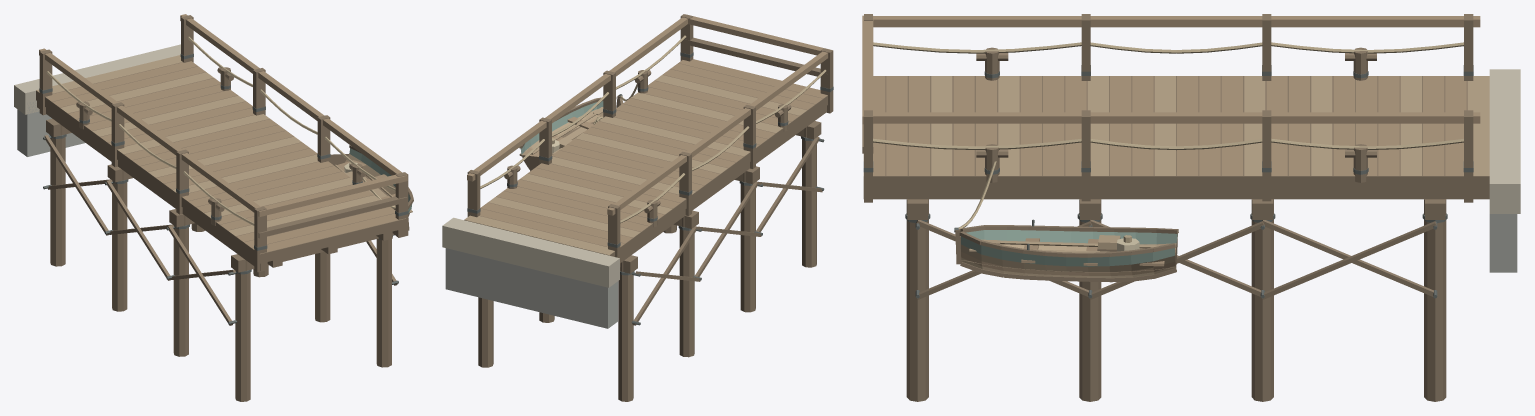
Rendered from holm_arrival_dock_overhaul_v4.glb.
3 views of the same model, side by side, from view 1: azimuth 30°, elevation 25°; view 2: azimuth 150°, elevation 25°; view 3: azimuth 270°, elevation 25° (orthographic). The views are drawn at different scales.
Parts seen in each view (by area): view 1: DockDeck, DockRails, DockPiles, DockStructure, DockLanding, DockRopes, DockBoatHull, DockIron, DockBollards; view 2: DockDeck, DockLanding, DockRails, DockPiles, DockStructure, DockBoatHull, DockRopes, DockBollards, DockIron, DockBoatFittings; view 3: DockDeck, DockRails, DockPiles, DockStructure, DockBoatHull, DockLanding, DockRopes, DockBollards, DockBoatFittings, DockIron.
Part boxes in pixels (x1,y1,x2,y2): DockDeck: (36,55,406,263); DockRails: (39,14,408,272); DockPiles: (50,125,391,401); DockStructure: (37,101,405,325); DockLanding: (14,44,180,156); DockRopes: (46,36,395,225); DockBoatHull: (330,145,413,230); DockIron: (39,54,408,324); DockBollards: (76,67,365,225); DockDeck: (464,59,827,256); DockLanding: (442,217,619,328); DockRails: (467,14,833,266); DockPiles: (478,127,816,401); DockStructure: (620,106,826,325); DockBoatHull: (519,95,623,171); DockRopes: (480,35,826,223); DockBollards: (504,70,791,227); DockIron: (467,52,833,325); DockBoatFittings: (531,83,637,154); DockDeck: (863,76,1489,189); DockRails: (862,14,1480,202); DockPiles: (906,199,1446,401); DockStructure: (863,189,1489,299); DockBoatHull: (955,225,1178,282); DockLanding: (1489,69,1520,272); DockRopes: (873,42,1463,150); DockBollards: (976,47,1376,182); DockBoatFittings: (954,161,1159,252); DockIron: (863,65,1473,298).
Bounding box in the file's own units: 5.16 × 4.5 × 9.47.
